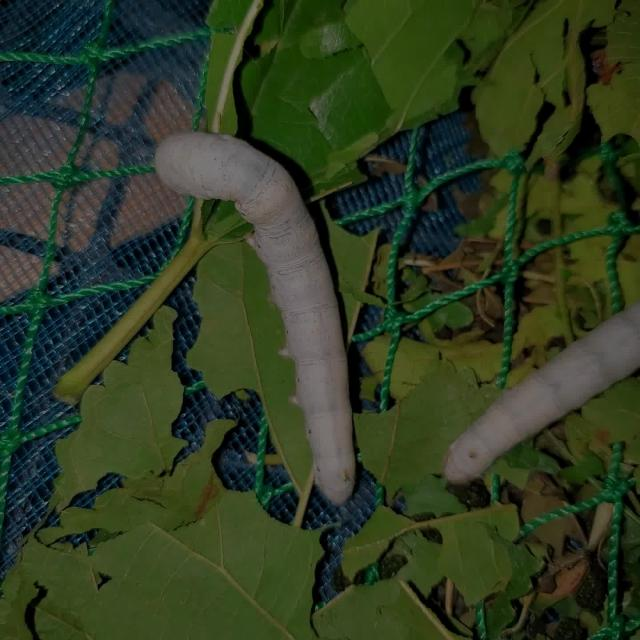Healthy: (122, 109, 386, 533)
